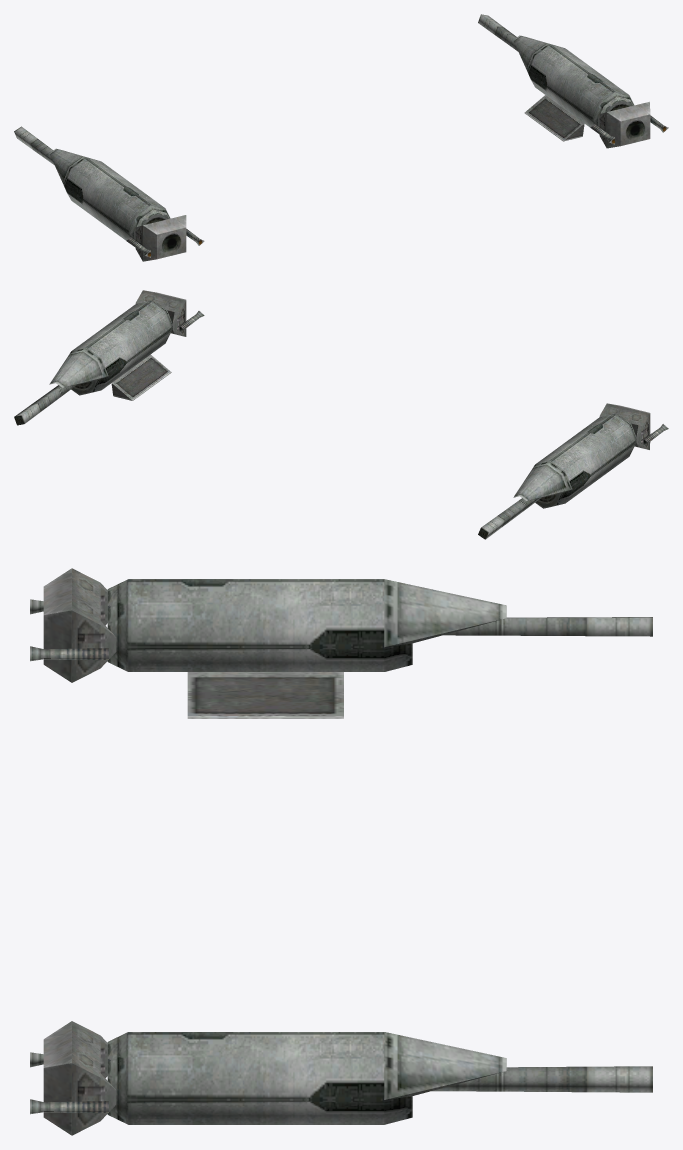
The model's file is black_sun_fighter_heavy_weapon1_s03_l1.fbx.
The picture shows the model from 3 angles, top to bottom: view 1: azimuth 30°, elevation 25°; view 2: azimuth 150°, elevation 25°; view 3: azimuth 270°, elevation 25°; orthographic projection. The views are drawn at different scales.
Visible parts, largest first — view 1: mesh_node; view 2: mesh_node; view 3: mesh_node.
Boxes of the visible parts, x1,y1,x2,y2 form: mesh_node: [14, 14, 668, 261]; mesh_node: [14, 290, 668, 539]; mesh_node: [30, 568, 652, 1135].
Size of the model in its own units: 3.41 by 0.3238 by 1.76.
Materials: 1 (1 with a texture image).
